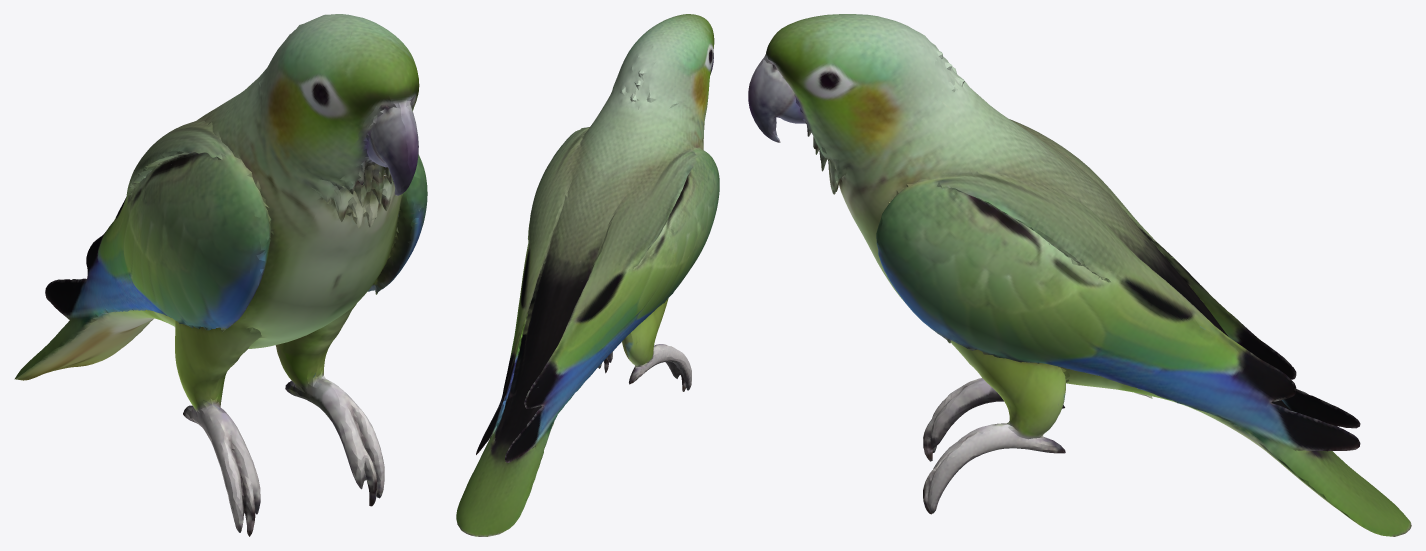
The model's file is parrot.glb.
The picture shows the model from 3 angles, left to right: view 1: azimuth 30°, elevation 25°; view 2: azimuth 150°, elevation 25°; view 3: azimuth 270°, elevation 25°; orthographic projection. The views are drawn at different scales.
Visible parts, largest first — view 1: model; view 2: model; view 3: model.
Part boxes in pixels (left/top/right/bottom): model: left=14, top=14, right=427, bottom=536; model: left=456, top=14, right=719, bottom=536; model: left=748, top=14, right=1411, bottom=536.
Bounding box in the file's own units: 0.6779 × 1.6 × 1.9.
Materials: 1 (1 with a texture image).
